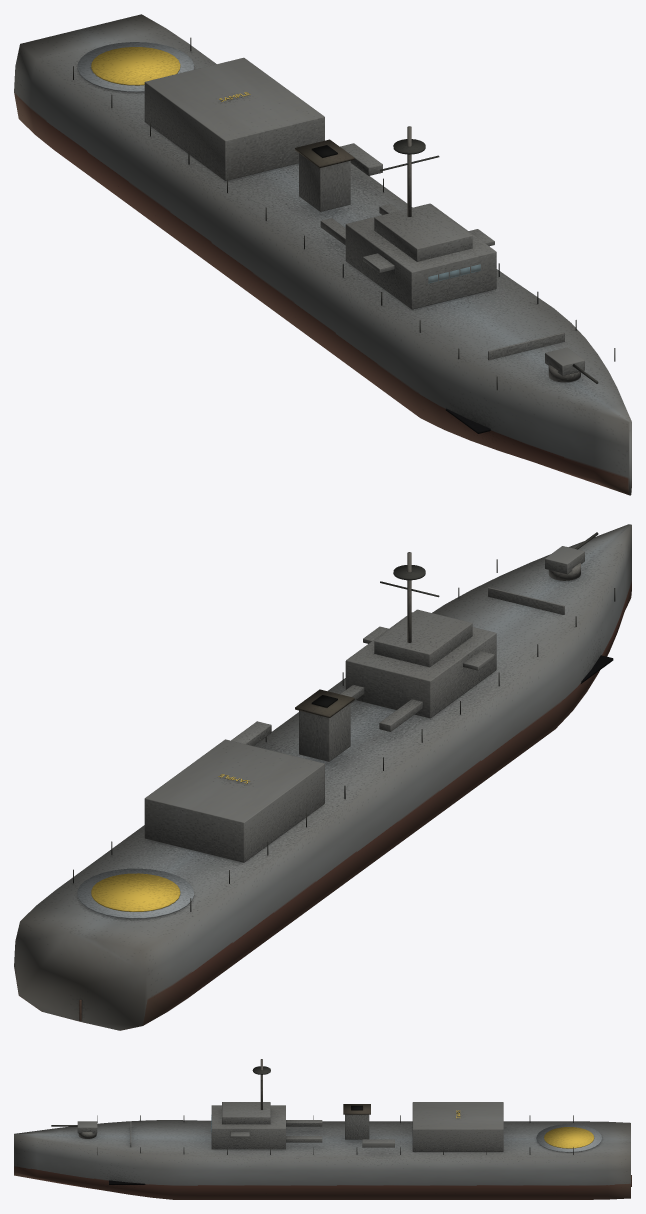
Rendered from sphere-vessel.glb.
3 renders of one model, top to bottom at view 1: azimuth 30°, elevation 25°; view 2: azimuth 150°, elevation 25°; view 3: azimuth 270°, elevation 25°, orthographic. The views are drawn at different scales.
Visible parts, largest first — view 1: hull; view 2: hull; view 3: hull.
Boxes of the visible parts, x1,y1,x2,y2 form: hull: (14,14,631,495); hull: (14,524,631,1030); hull: (14,1059,631,1199).
Size of the model in its own units: 10.89 by 16.44 by 71.43.
2 materials, 1 textured.
